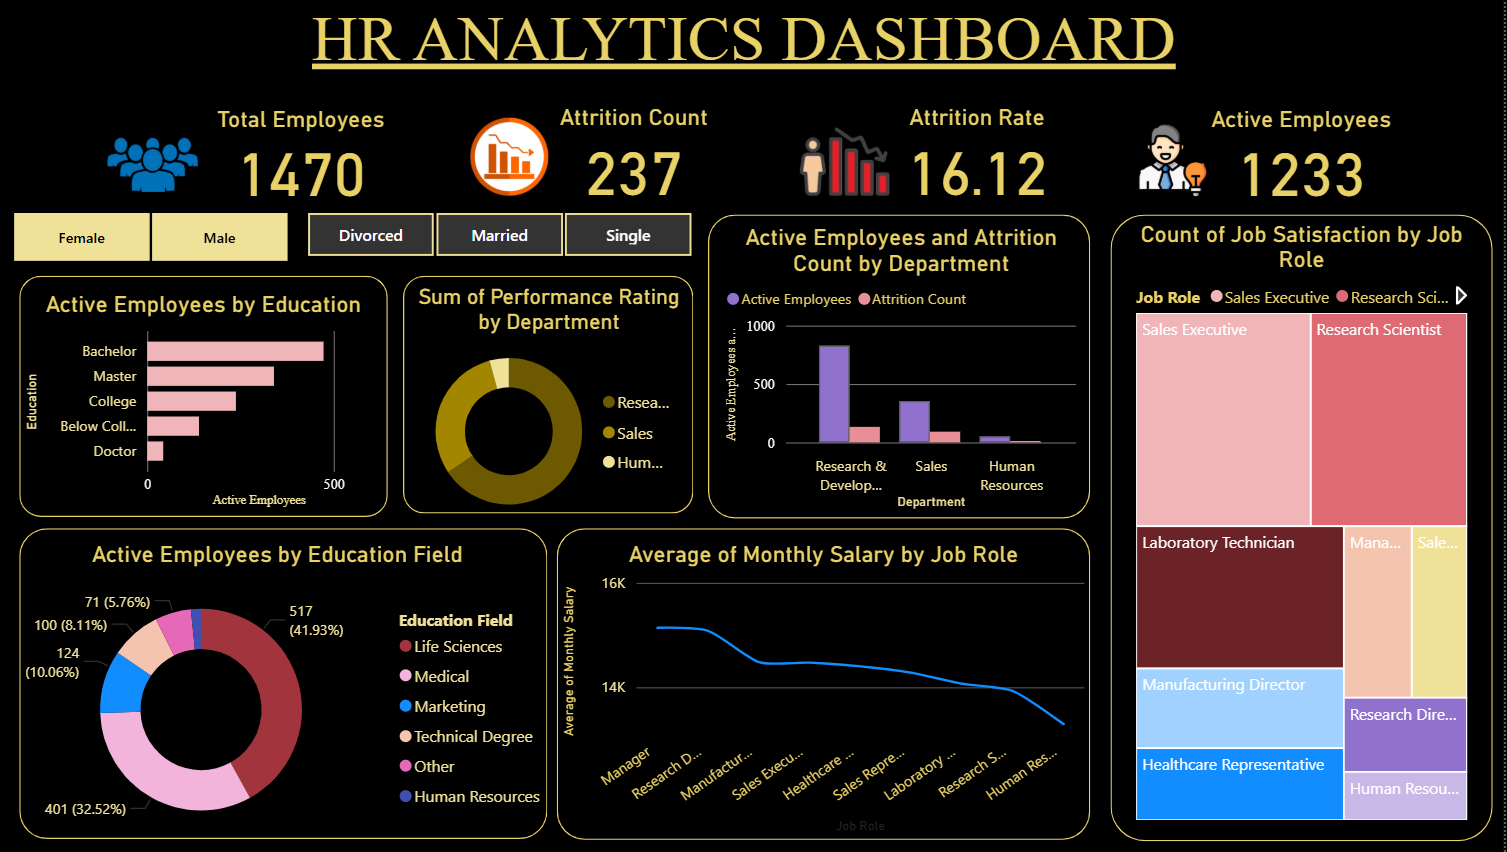

This screenshot's page, from the dashboard's own definition file:
{"tool":"powerbi","page":{"name":"Dashboard","canvas":[1280,720],"ordinal":0},"visuals":[{"type":"image","box":[621.4,51.4,242.9,172.9],"z":1000},{"type":"shape","box":[30,234.3,310,202.9],"z":2000},{"type":"shape","box":[483,447.3,448.7,262.1],"z":3000},{"type":"textbox","box":[0,0,1280,103.8],"z":4000},{"type":"card","title":"Total Employees","fields":{"Values":["CountNonNull(WA_Fn-UseC_-HR-Employee-Attrition.EmployeeNumber)"]},"box":[174.3,91.4,185.7,82.9],"z":5000},{"type":"card","title":"Attrition Count","fields":{"Values":["WA_Fn-UseC_-HR-Employee-Attrition.Attrition Count"]},"box":[455.7,90,184.3,82.9],"z":6000},{"type":"card","title":"Attrition Rate","fields":{"Values":["WA_Fn-UseC_-HR-Employee-Attrition.Attrition Rate"]},"box":[742.9,90,185.7,82.9],"z":7000},{"type":"card","title":"Active Employees","fields":{"Values":["WA_Fn-UseC_-HR-Employee-Attrition.working count"]},"box":[1017.1,91.4,184.3,82.9],"z":8000},{"type":"slicer","fields":{"Values":["WA_Fn-UseC_-HR-Employee-Attrition.Gender"]},"box":[0,174.3,280,54.3],"z":9000},{"type":"slicer","fields":{"Values":["WA_Fn-UseC_-HR-Employee-Attrition.Marital Status"]},"box":[247.1,174.3,372.9,50],"z":10000},{"type":"shape","box":[610,182.9,321.4,255.7],"z":11000},{"type":"shape","box":[948.6,182.9,321.4,527.1],"z":12000},{"type":"clusteredColumnChart","fields":{"Category":["WA_Fn-UseC_-HR-Employee-Attrition.Department"],"Y":["WA_Fn-UseC_-HR-Employee-Attrition.working count","WA_Fn-UseC_-HR-Employee-Attrition.Attrition Count"]},"box":[620,191.4,304.3,244.3],"z":13000},{"type":"shape","box":[30,447.1,444.3,261.4],"z":14000},{"type":"donutChart","fields":{"Y":["WA_Fn-UseC_-HR-Employee-Attrition.Active Employees"],"Category":["WA_Fn-UseC_-HR-Employee-Attrition.Education Field"]},"box":[12.9,457.1,470,262.9],"z":15000},{"type":"barChart","fields":{"Category":["WA_Fn-UseC_-HR-Employee-Attrition.Education"],"Y":["WA_Fn-UseC_-HR-Employee-Attrition.Active Employees"]},"box":[30,247.1,310,187.1],"z":16000},{"type":"treemap","fields":{"Group":["WA_Fn-UseC_-HR-Employee-Attrition.Job Role"],"Values":["CountNonNull(WA_Fn-UseC_-HR-Employee-Attrition.Job Satisfaction)"]},"box":[964.7,188,288.2,509.1],"z":17000},{"type":"lineChart","fields":{"Y":["Avg(WA_Fn-UseC_-HR-Employee-Attrition.Monthly Salary)"],"Category":["WA_Fn-UseC_-HR-Employee-Attrition.Job Role"]},"box":[483,456.9,448.7,251.1],"z":18000},{"type":"shape","box":[352.9,234.3,244.3,200],"z":19000},{"type":"donutChart","fields":{"Y":["Sum(WA_Fn-UseC_-HR-Employee-Attrition.Performance Rating)"],"Category":["WA_Fn-UseC_-HR-Employee-Attrition.Department"]},"box":[360,241.4,232.9,205.7],"z":20000},{"type":"image","box":[964.3,101.4,72.9,72.9],"z":21000},{"type":"image","box":[402.9,97.1,80,75.7],"z":22000},{"type":"image","box":[100,97.1,85.7,88.6],"z":23000}]}

Visuals, with their boxes in screenshot pixels (x1, y1, x2, y2), scaled from the page's 1280x720 canvas onto the 1507x852 screenshot:
image: rect(732, 61, 1018, 265)
shape: rect(35, 277, 400, 517)
shape: rect(569, 529, 1097, 839)
textbox: rect(0, 0, 1506, 123)
"Total Employees" card: rect(205, 108, 424, 206)
"Attrition Count" card: rect(537, 106, 754, 205)
"Attrition Rate" card: rect(875, 106, 1093, 205)
"Active Employees" card: rect(1197, 108, 1414, 206)
slicer - WA_Fn-UseC_-HR-Employee-Attrition.Gender: rect(0, 206, 330, 271)
slicer - WA_Fn-UseC_-HR-Employee-Attrition.Marital Status: rect(291, 206, 730, 265)
shape: rect(718, 216, 1097, 519)
shape: rect(1117, 216, 1495, 840)
clusteredColumnChart - WA_Fn-UseC_-HR-Employee-Attrition.Department x WA_Fn-UseC_-HR-Employee-Attrition.working count: rect(730, 226, 1088, 516)
shape: rect(35, 529, 558, 838)
donutChart - WA_Fn-UseC_-HR-Employee-Attrition.Active Employees x WA_Fn-UseC_-HR-Employee-Attrition.Education Field: rect(15, 541, 569, 851)
barChart - WA_Fn-UseC_-HR-Employee-Attrition.Education x WA_Fn-UseC_-HR-Employee-Attrition.Active Employees: rect(35, 292, 400, 514)
treemap - WA_Fn-UseC_-HR-Employee-Attrition.Job Role x CountNonNull(WA_Fn-UseC_-HR-Employee-Attrition.Job Satisfaction): rect(1136, 222, 1475, 825)
lineChart - Avg(WA_Fn-UseC_-HR-Employee-Attrition.Monthly Salary) x WA_Fn-UseC_-HR-Employee-Attrition.Job Role: rect(569, 541, 1097, 838)
shape: rect(415, 277, 703, 514)
donutChart - Sum(WA_Fn-UseC_-HR-Employee-Attrition.Performance Rating) x WA_Fn-UseC_-HR-Employee-Attrition.Department: rect(424, 286, 698, 529)
image: rect(1135, 120, 1221, 206)
image: rect(474, 115, 569, 204)
image: rect(118, 115, 219, 220)
